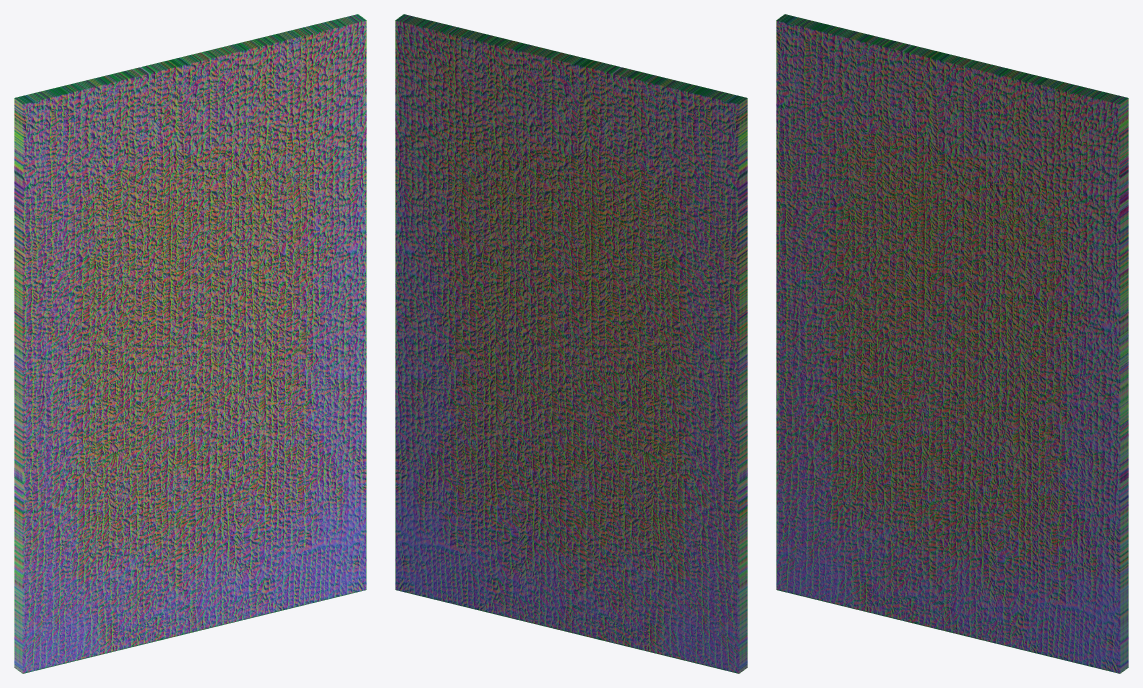
The model's file is carpet002.fbx.
3 views of the same model, side by side, from view 1: azimuth 30°, elevation 25°; view 2: azimuth 150°, elevation 25°; view 3: azimuth 330°, elevation 25° (orthographic).
Visible parts, largest first — view 1: carpet__10_, carpet, carpet__5_, carpet__9_, carpet__4_, carpet__2_, carpet__8_, carpet__1_, carpet__3_, carpet__6_, carpet__7_; view 2: carpet, carpet__1_, carpet__5_, carpet__10_, carpet__6_, carpet__2_, carpet__8_, carpet__3_, carpet__4_, carpet__7_, carpet__9_; view 3: carpet__10_, carpet, carpet__5_, carpet__9_, carpet__4_, carpet__2_, carpet__8_, carpet__1_, carpet__3_, carpet__6_, carpet__7_.
Part boxes in pixels (x1,y1,x2,y2): carpet__10_: (22,20,366,673); carpet: (14,14,358,667); carpet__5_: (18,17,362,670); carpet__9_: (21,19,365,673); carpet__4_: (17,16,361,669); carpet__2_: (16,15,359,669); carpet__8_: (21,18,364,672); carpet__1_: (15,14,358,668); carpet__3_: (17,16,360,669); carpet__6_: (19,17,362,671); carpet__7_: (20,18,363,671); carpet: (395,20,739,673); carpet__1_: (396,19,740,673); carpet__5_: (399,17,743,670); carpet__10_: (403,14,747,667); carpet__6_: (400,16,744,669); carpet__2_: (397,18,740,672); carpet__8_: (402,15,745,669); carpet__3_: (398,18,741,671); carpet__4_: (399,17,742,671); carpet__7_: (401,16,744,669); carpet__9_: (403,14,746,668); carpet__10_: (776,20,1120,673); carpet: (784,14,1128,667); carpet__5_: (780,17,1124,670); carpet__9_: (777,19,1121,673); carpet__4_: (781,16,1125,669); carpet__2_: (783,15,1126,669); carpet__8_: (778,18,1121,672); carpet__1_: (784,14,1127,668); carpet__3_: (782,16,1125,669); carpet__6_: (780,17,1123,671); carpet__7_: (779,18,1122,671).
Size of the model in its own units: 2468 by 3909 by 100.
Materials: 1 (1 with a texture image).
